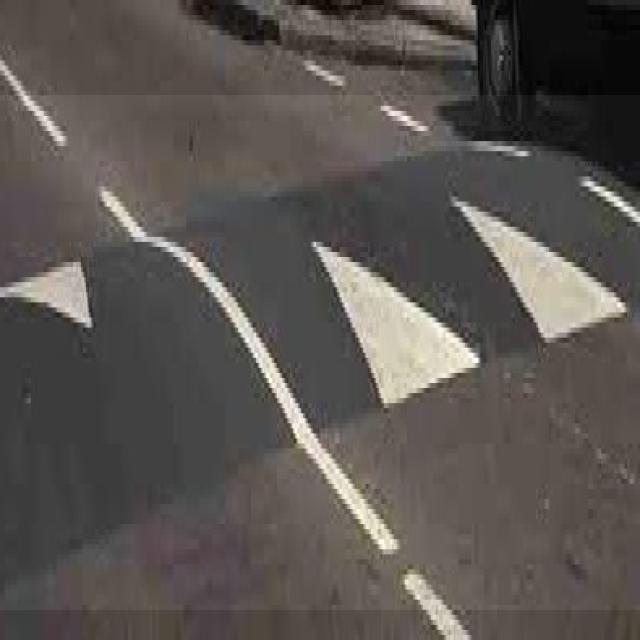speed-bump: (0, 95, 640, 610)
